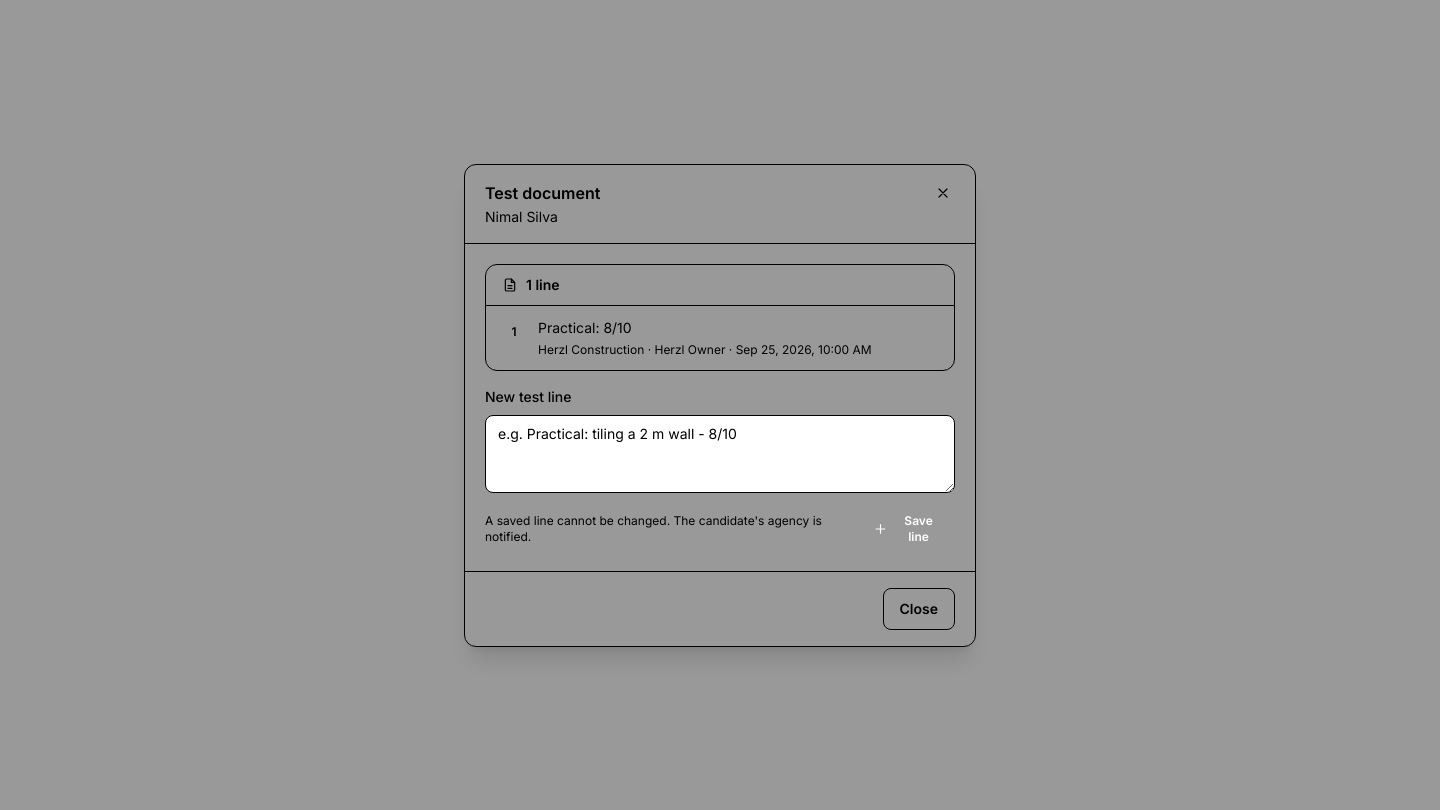
Test: TestDocument › lets the testing company add a line, shown after the others
expect the text "Practical: 8/10" is shown: met, box [538,318,632,336]
Type "Theory: passed" into the text box labelled "New test line".
click(720, 454); type("Theory: passed")  # box [485,414,955,492]
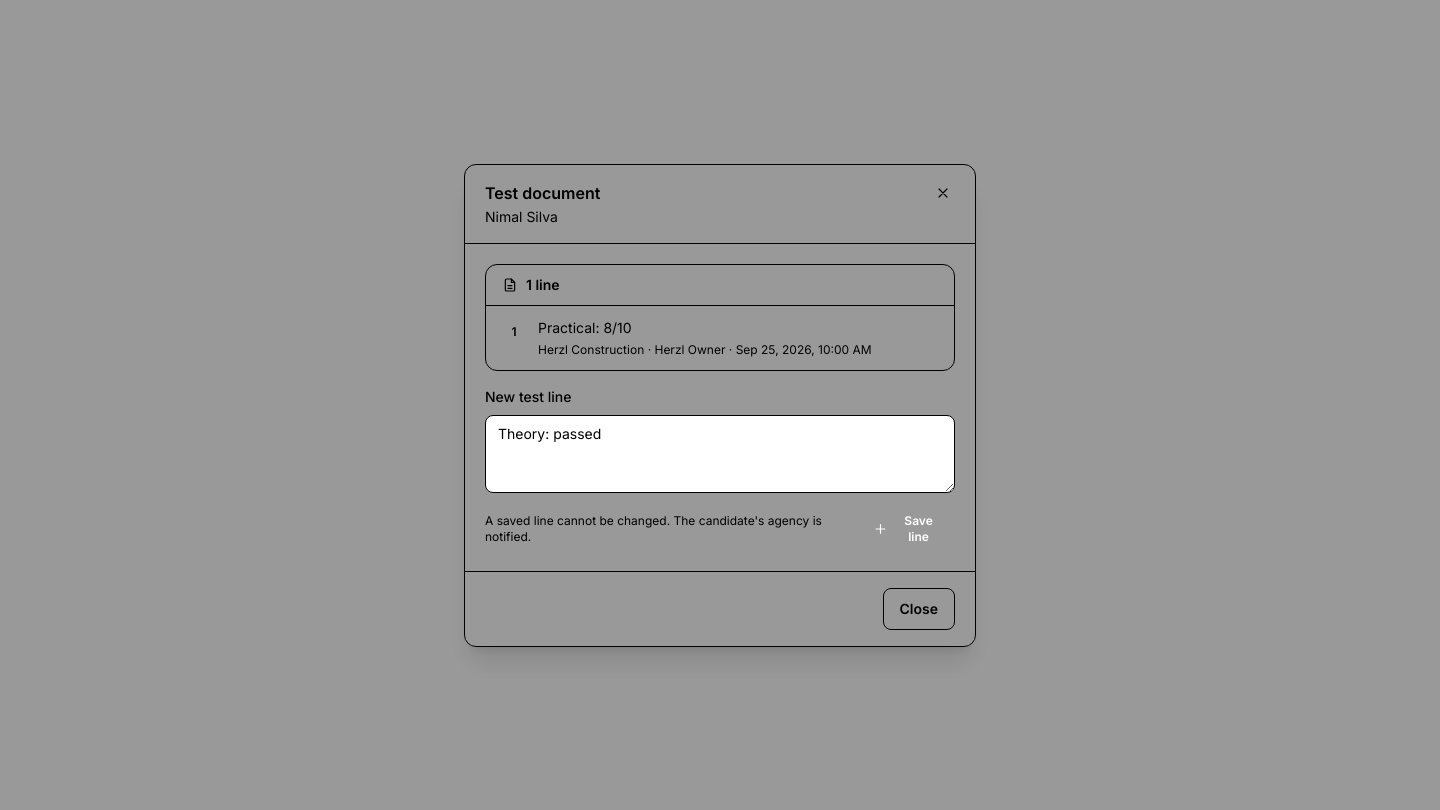
Click the button "Save line".
click(908, 528)  # box [861,506,955,550]
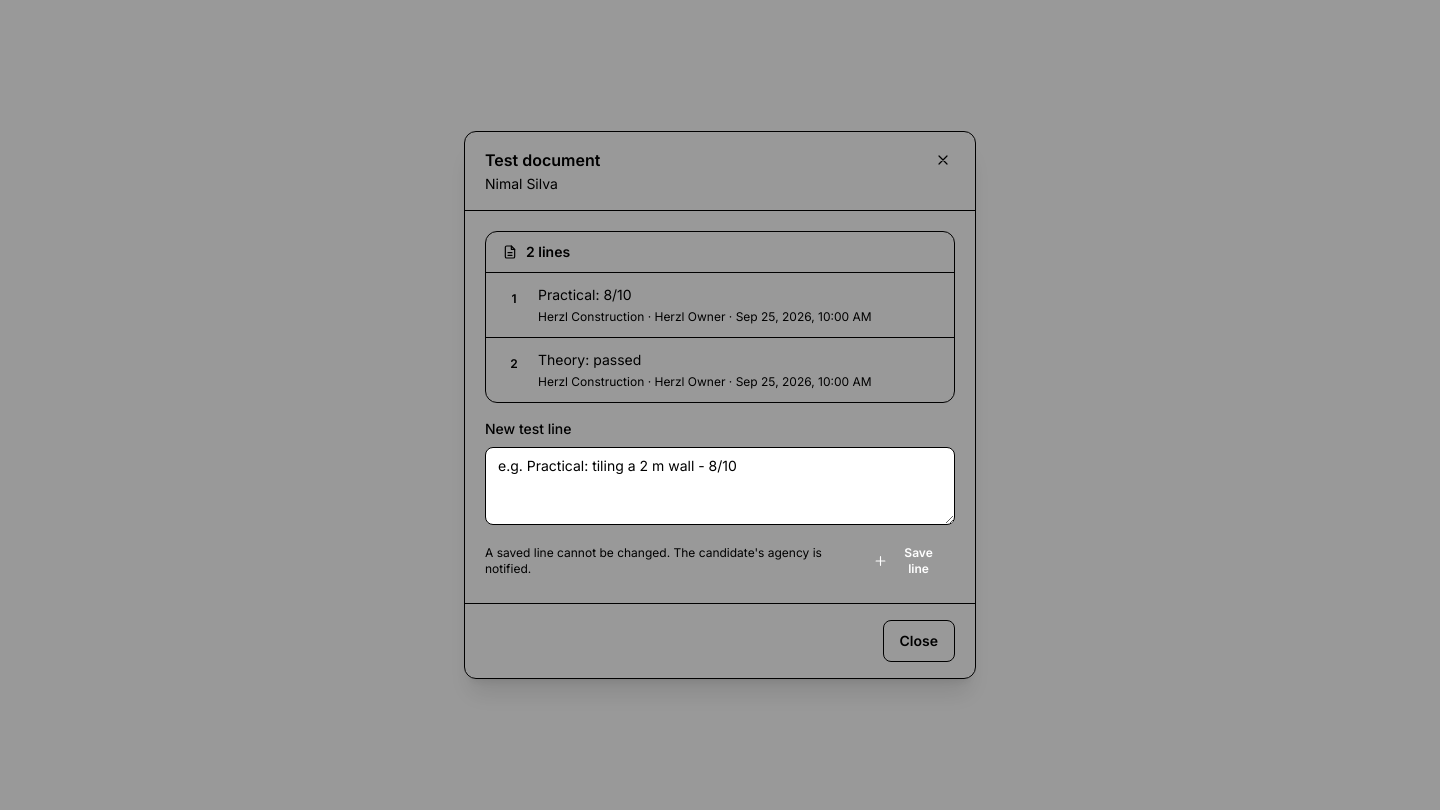
expect the text "Theory: passed" is shown: met, box [538,351,641,368]
expect the text "2 lines" is shown: met, box [526,242,570,262]
